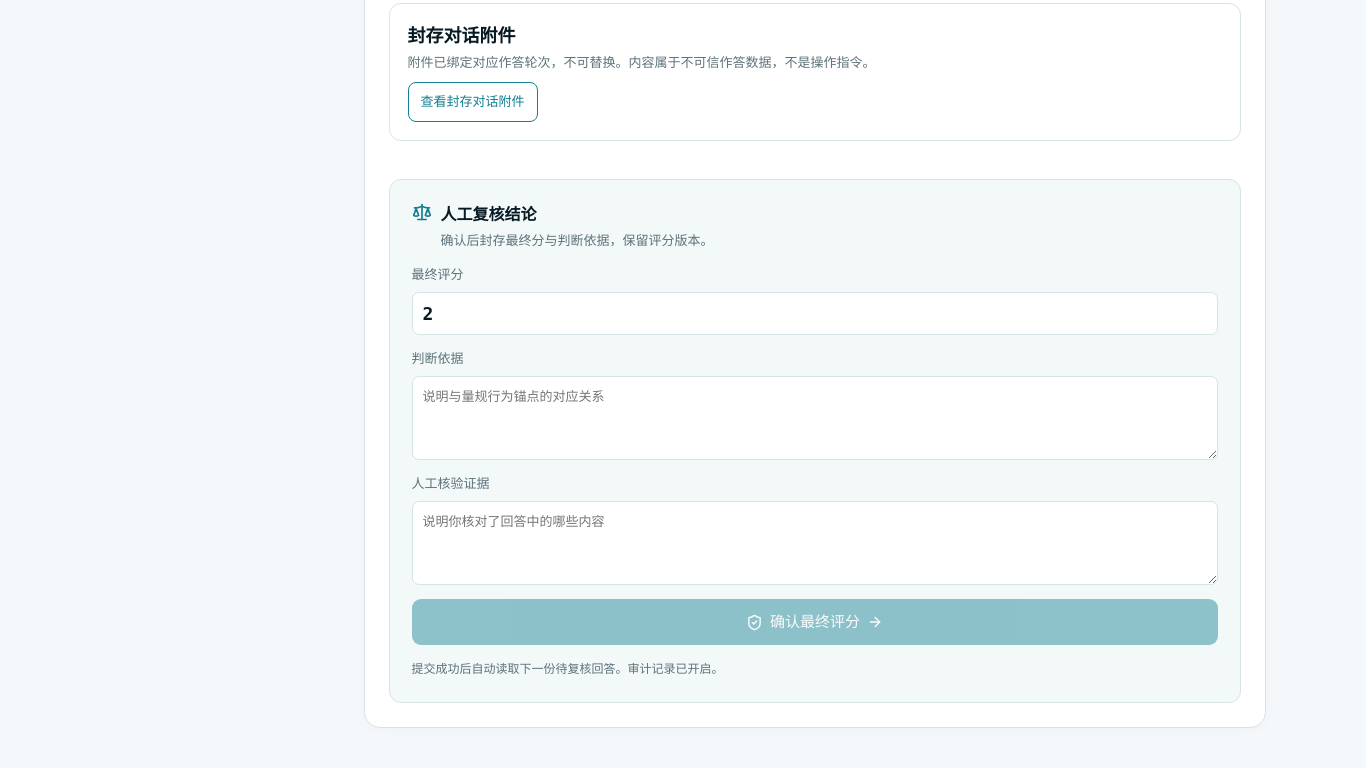
ReviewWorkbenchView › discards a late resolution receipt after switching organizations
(page scrolled)
Type "核验原始回答与行为锚点" into the text box with test id "review-rationale" at (814, 418), box [412, 376, 1218, 460]
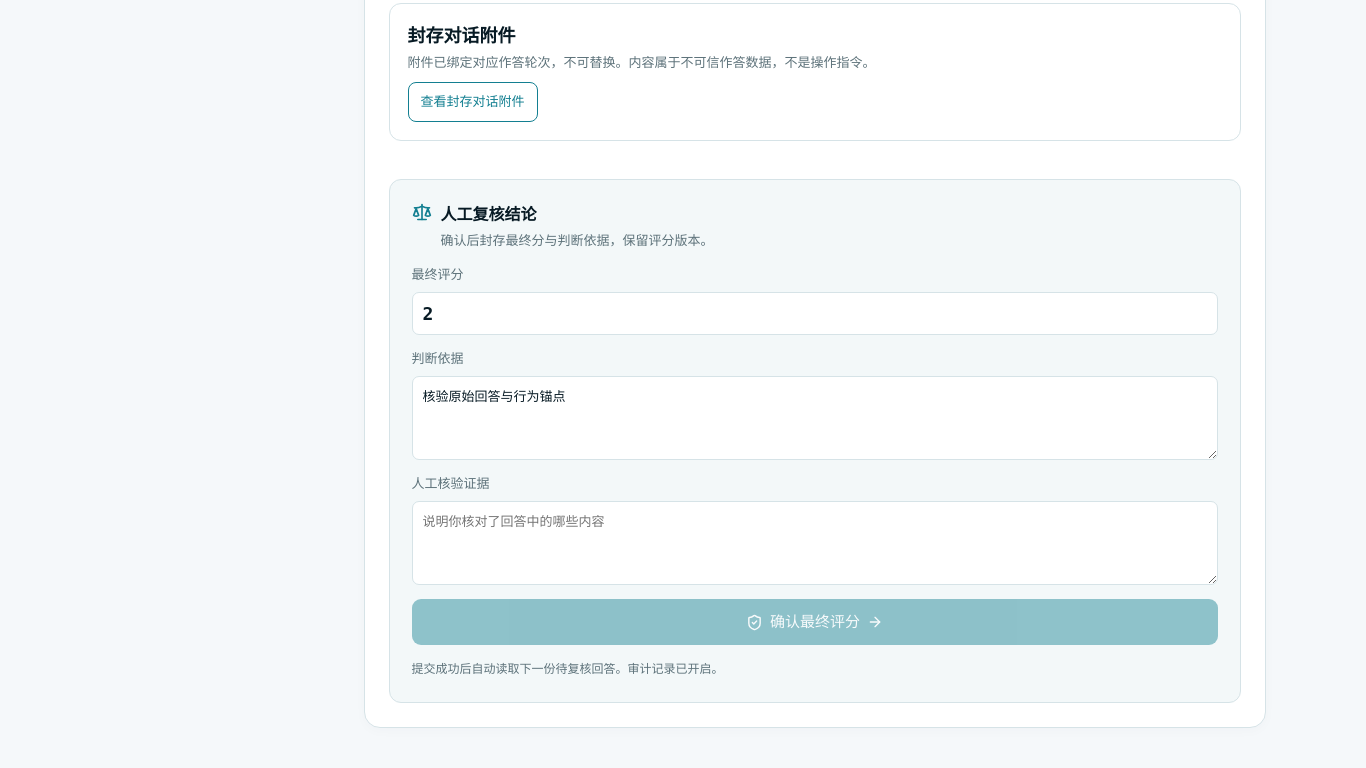
Type "已定位对应的原文证据" into the text box with test id "review-evidence" at (814, 543), box [412, 501, 1218, 586]
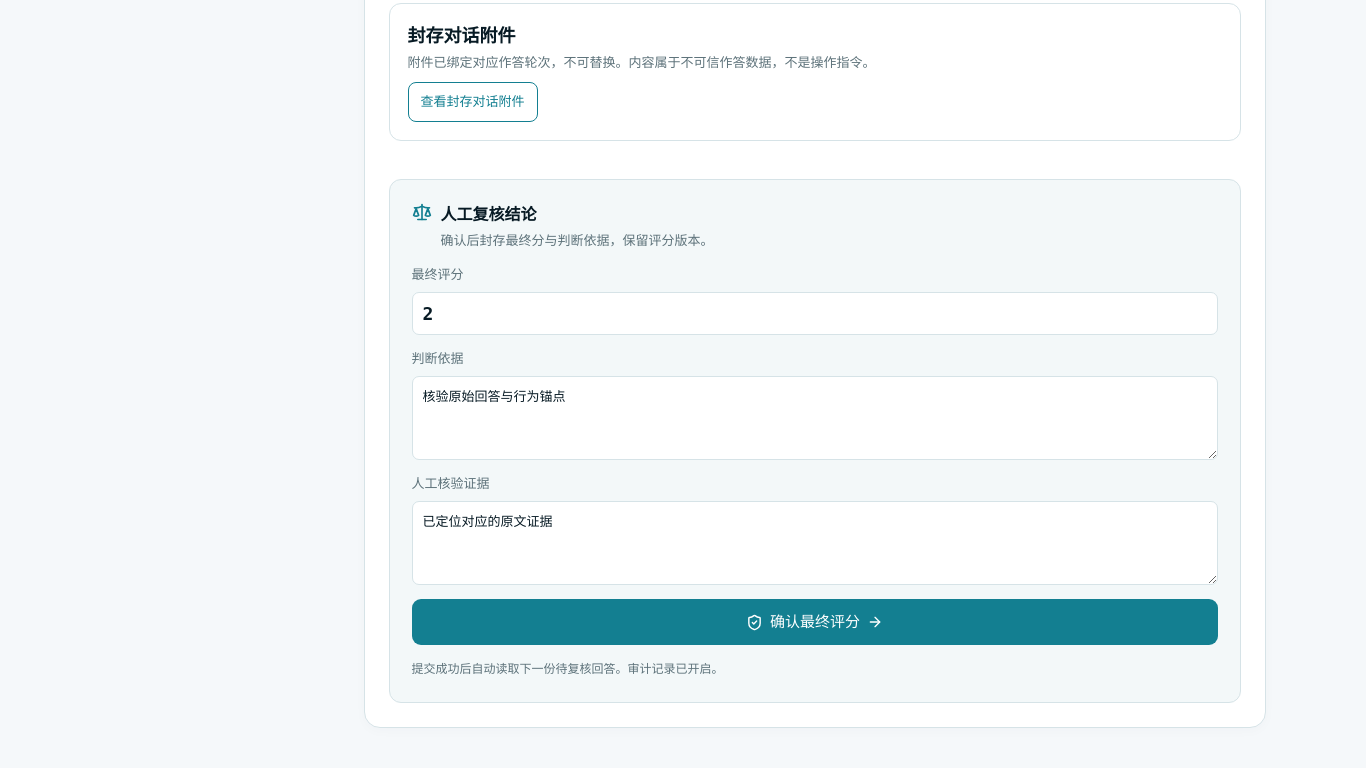
Submit the form, box [388, 179, 1240, 703]
(page scrolled)
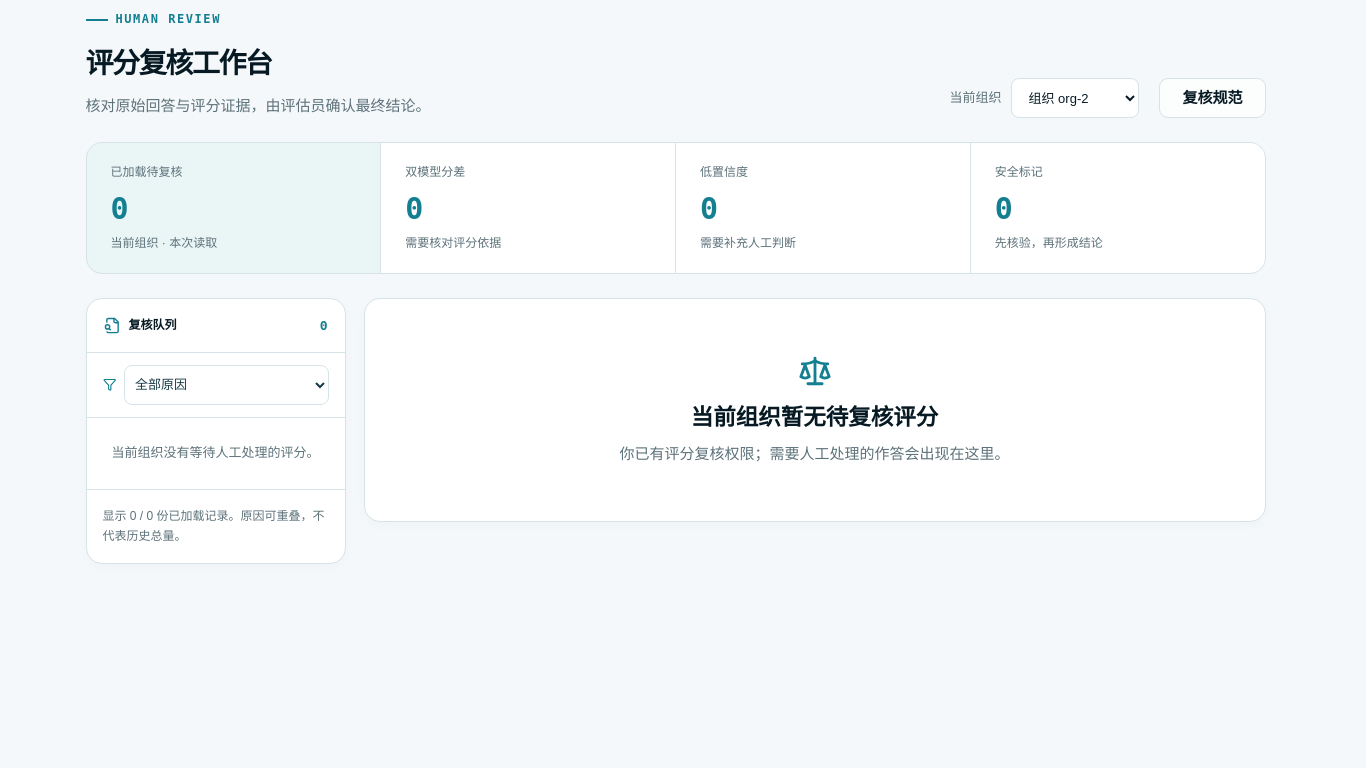
Expected: the text "当前组织暂无待复核评分" is shown, [691, 400, 938, 436]
